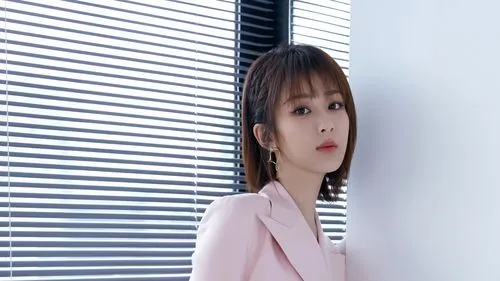withoutmask: (240, 38, 368, 195)
